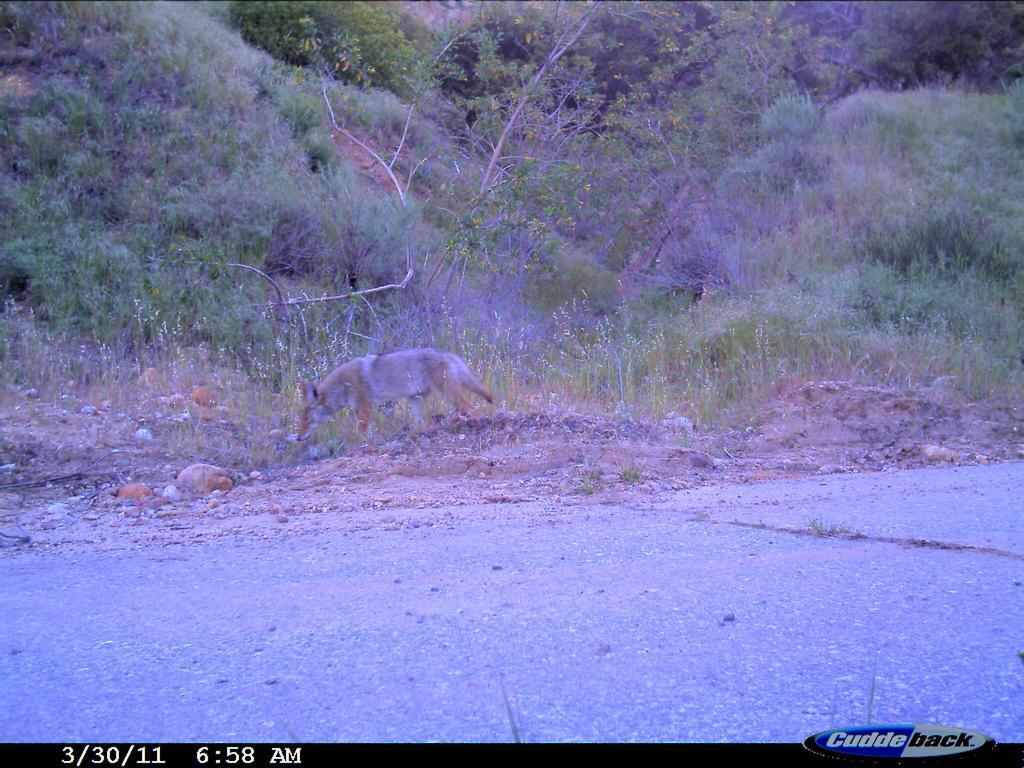coyote: (295, 350, 495, 450)
